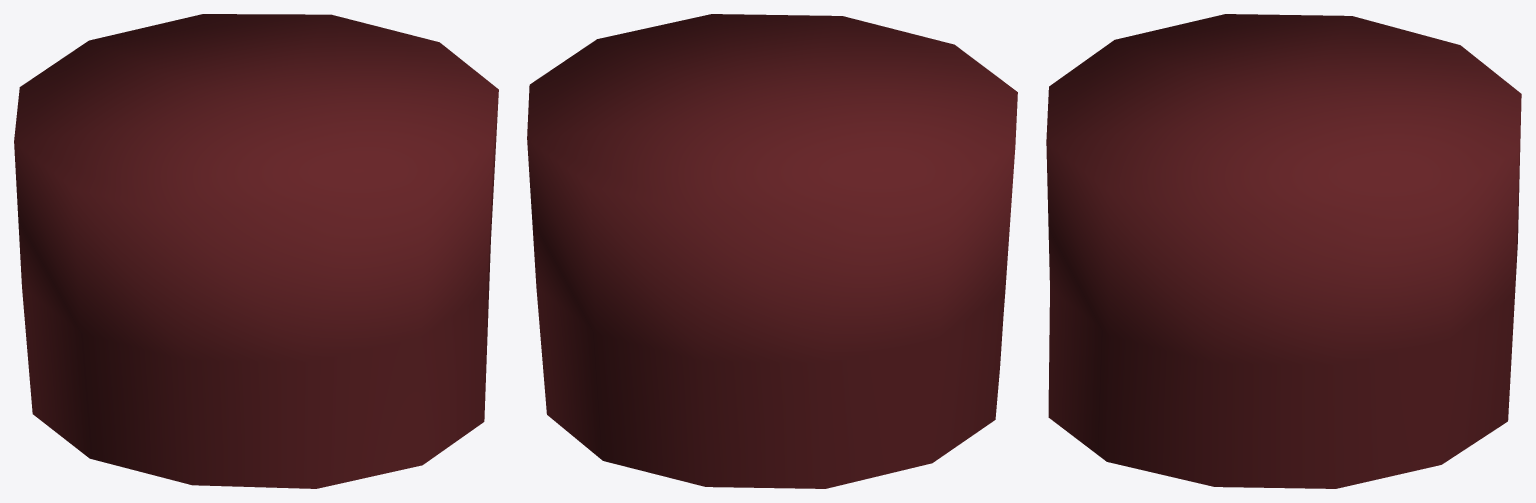
The model's file is garrafa_menor_bebida.fbx.
3 views of the same model, side by side, from view 1: azimuth 30°, elevation 25°; view 2: azimuth 150°, elevation 25°; view 3: azimuth 270°, elevation 25° (orthographic).
Parts seen in each view (by area): view 1: garrafa_menor_bebida; view 2: garrafa_menor_bebida; view 3: garrafa_menor_bebida.
Part boxes in pixels (x1,y1,x2,y2): garrafa_menor_bebida: (14,14,498,488); garrafa_menor_bebida: (527,14,1017,488); garrafa_menor_bebida: (1046,14,1521,488).
Bounding box in the file's own units: 9.82 × 6.09 × 9.5.
